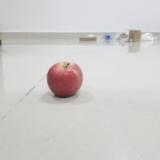apple: (47, 62, 83, 98)
